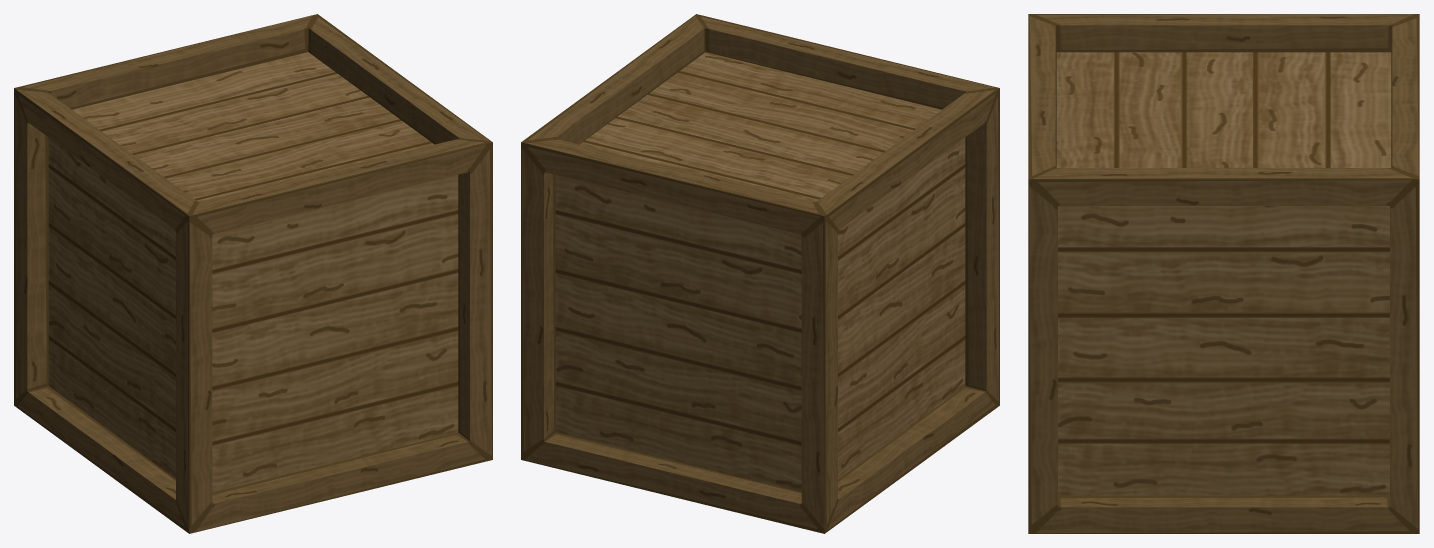
File: woodenbox.obj
The picture shows the model from 3 angles, left to right: view 1: azimuth 30°, elevation 25°; view 2: azimuth 150°, elevation 25°; view 3: azimuth 270°, elevation 25°; orthographic projection. The views are drawn at different scales.
Visible parts, largest first — view 1: Wooden_Box_Cube.004_Cube.006; view 2: Wooden_Box_Cube.004_Cube.006; view 3: Wooden_Box_Cube.004_Cube.006.
Boxes of the visible parts, box(x1,y1,x2,y2) form: Wooden_Box_Cube.004_Cube.006: box(14, 14, 492, 533); Wooden_Box_Cube.004_Cube.006: box(521, 14, 999, 533); Wooden_Box_Cube.004_Cube.006: box(1028, 14, 1419, 533).
Size of the model in its own units: 1.55 by 1.55 by 1.55.
Materials: 1 (1 with a texture image).
